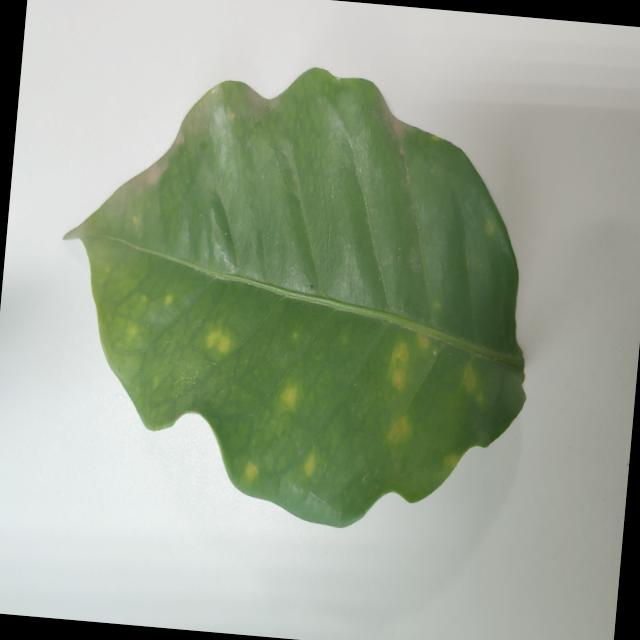KaratDaunKopi: (390, 342, 409, 388), (387, 414, 411, 444), (206, 330, 230, 352), (463, 365, 476, 392), (282, 387, 296, 407), (245, 461, 258, 481), (304, 452, 314, 476), (485, 219, 494, 235), (165, 294, 172, 304)
